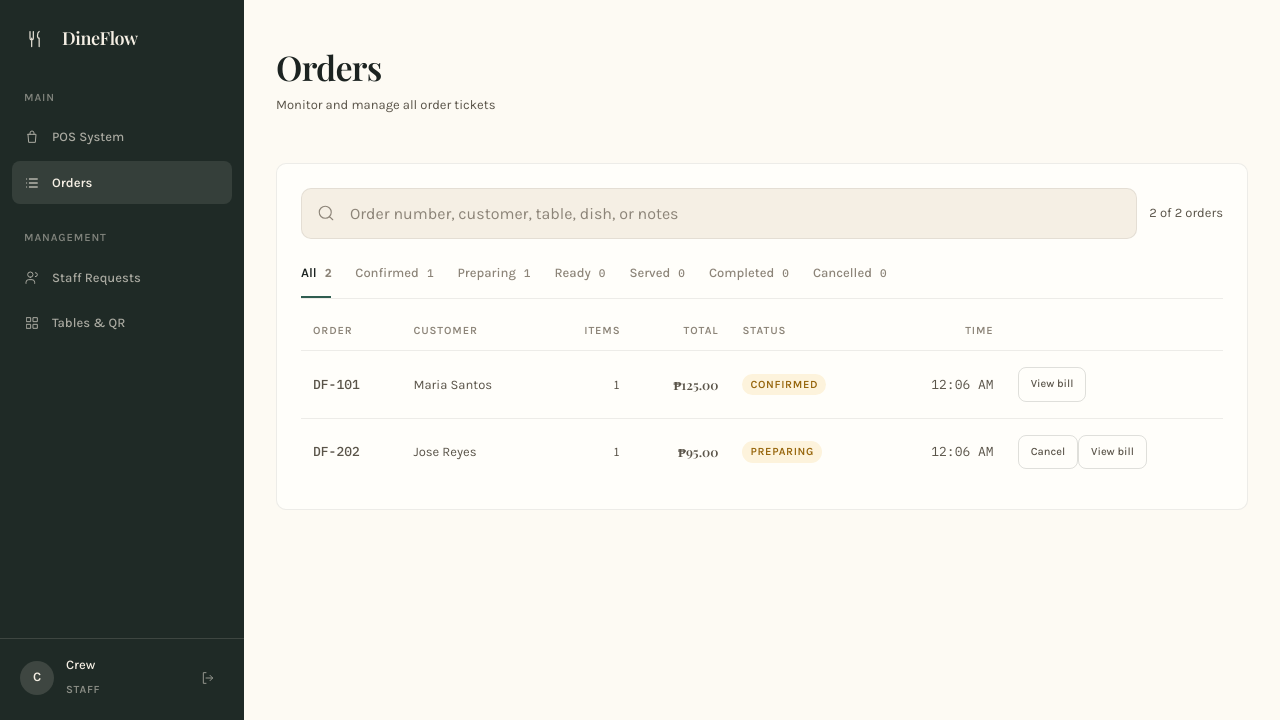
Test: staff can find an order by customer, dish, and table and clear the search
Type "Maria bangsilog" into the search field named "Search orders" at [719, 213], box [301, 188, 1137, 239]
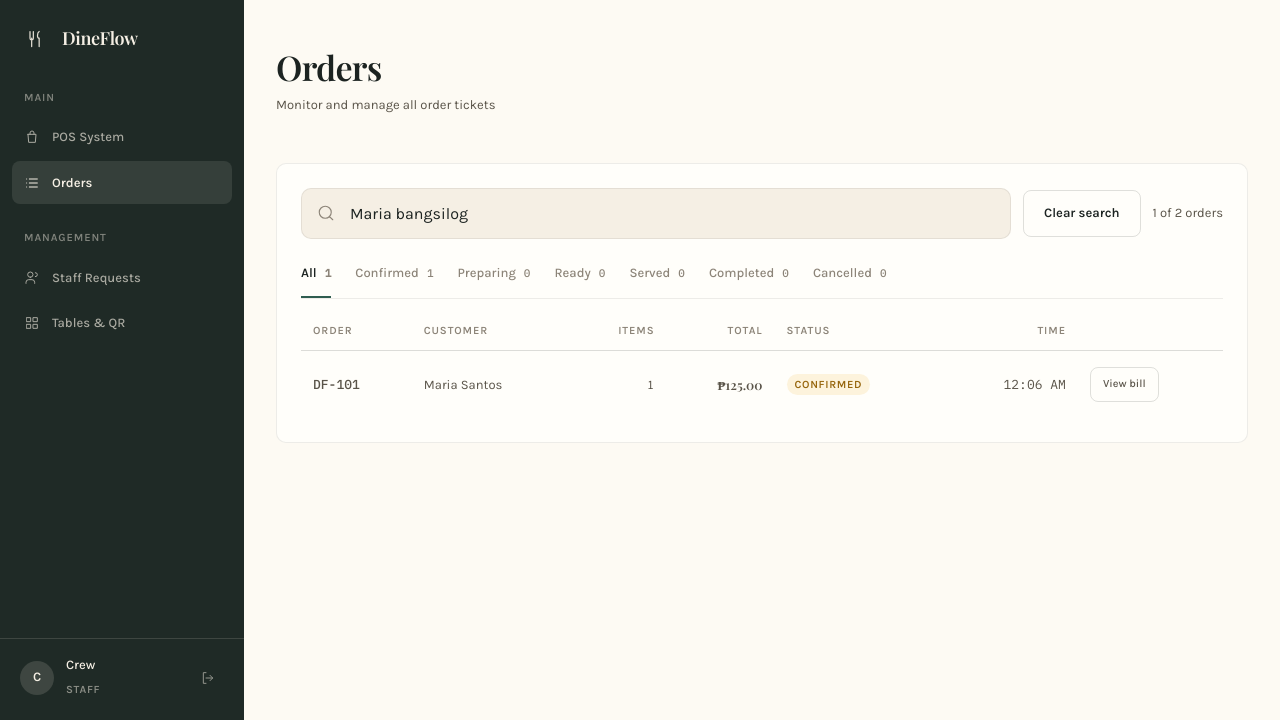
Check: the text "DF-101" is shown, box [301, 351, 412, 418]
Check: the text "DF-202" is gone
Replace the text in the search field named "Search orders" with "table 4" at [656, 213], box [301, 188, 1011, 239]
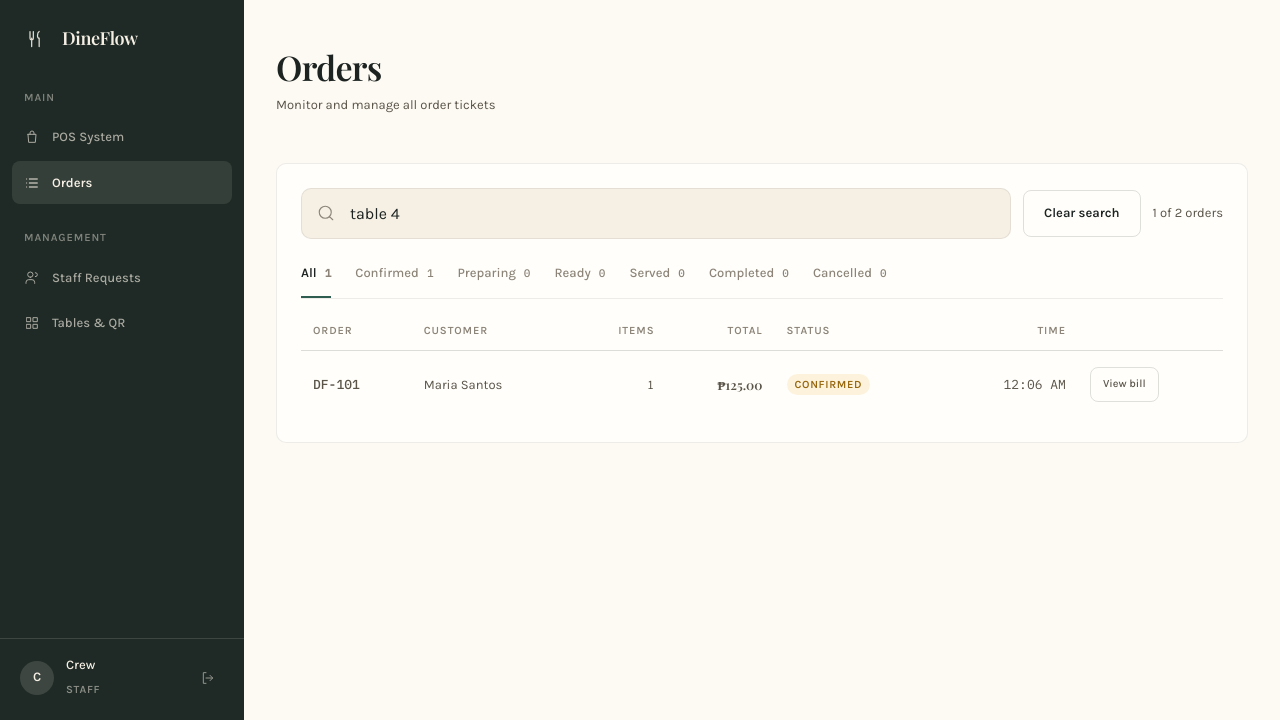
Check: the text "DF-101" is shown, box [301, 351, 412, 418]
Check: the text "DF-202" is not shown
Replace the text in the search field named "Search orders" with "missing" at [656, 213], box [301, 188, 1011, 239]
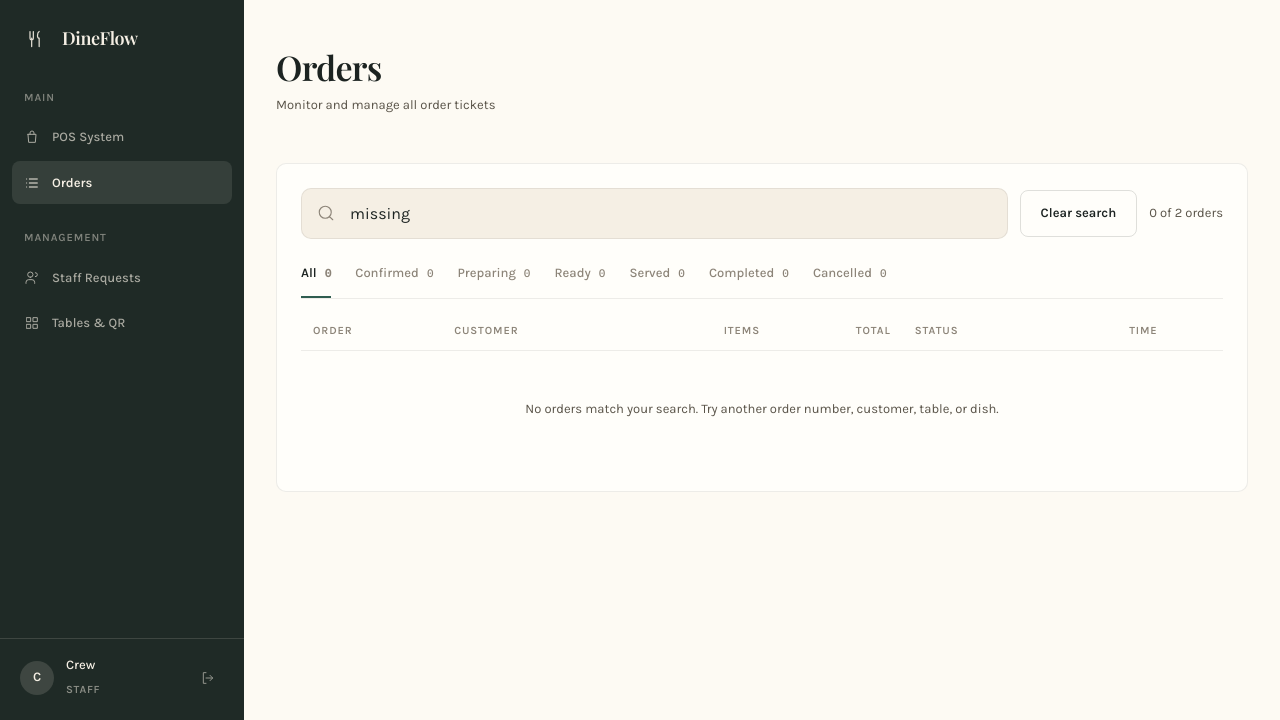
Check: the text "No orders match your search" is shown, box [525, 401, 999, 416]
Click the button "Clear search" at [1078, 213], box [1020, 190, 1137, 237]
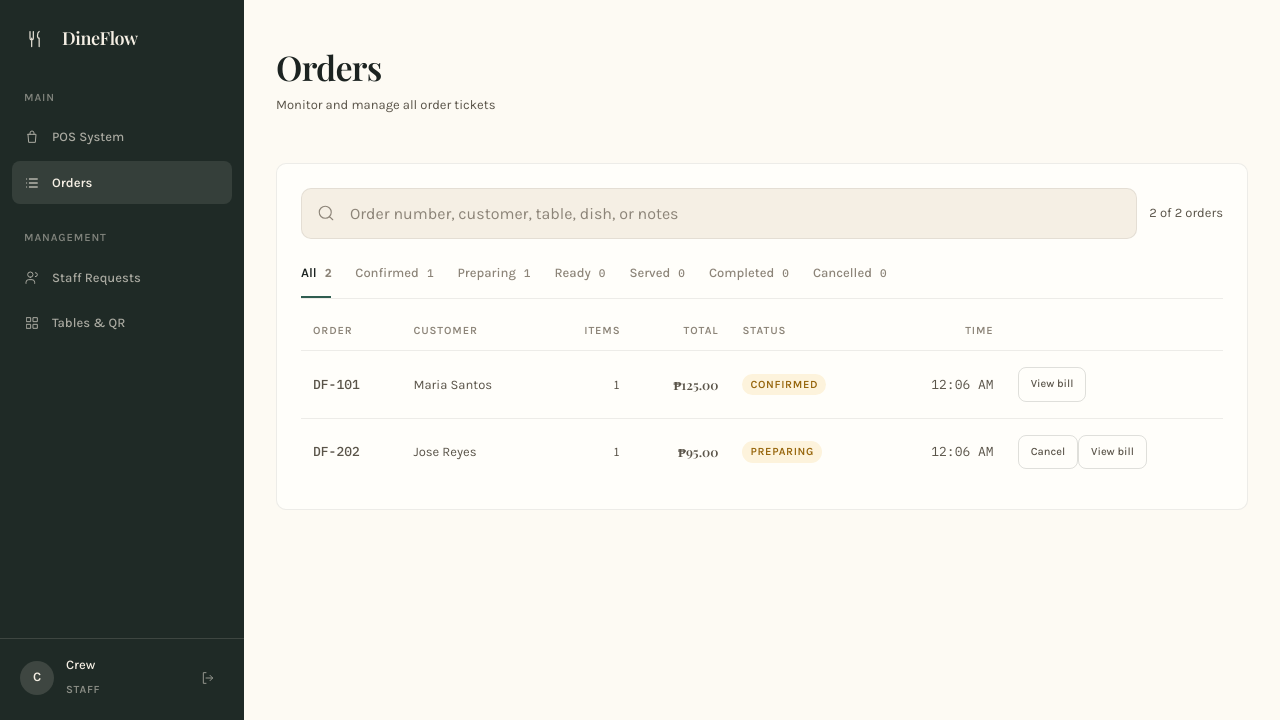
Check: the text "DF-101" is shown, box [301, 351, 401, 418]
Check: the text "DF-202" is shown, box [301, 418, 401, 485]
